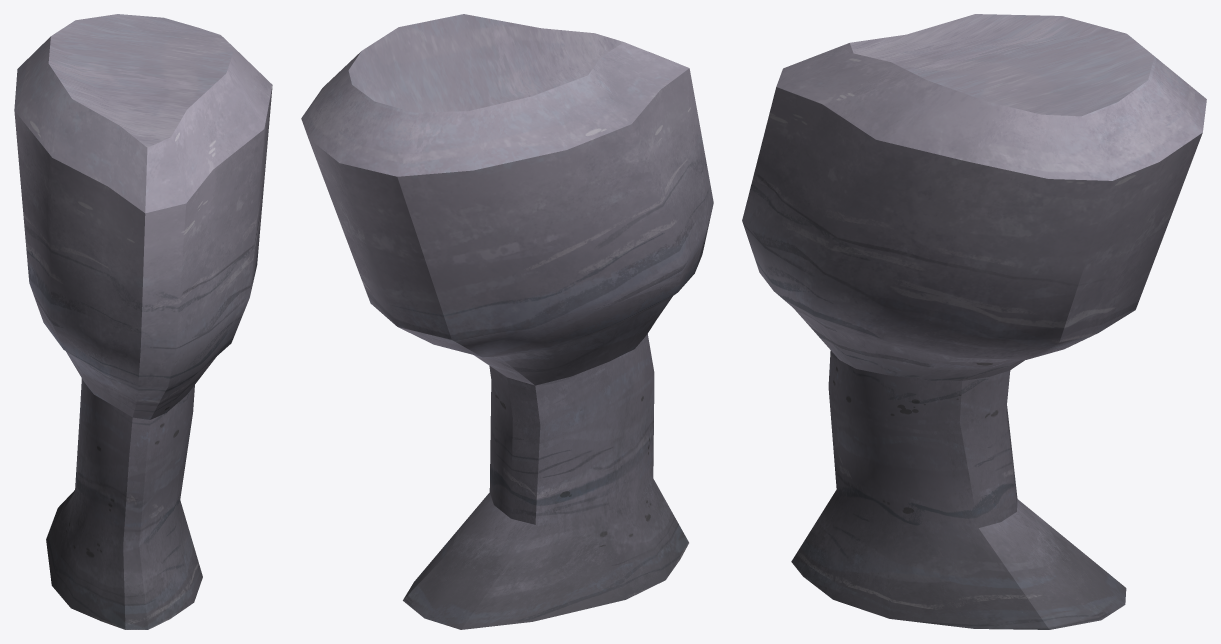
The model's file is tower_1.fbx.
The picture shows the model from 3 angles, left to right: view 1: azimuth 30°, elevation 25°; view 2: azimuth 150°, elevation 25°; view 3: azimuth 270°, elevation 25°; orthographic projection. The views are drawn at different scales.
Visible parts, largest first — view 1: tower 1; view 2: tower 1; view 3: tower 1.
Part boxes in pixels (<box>): tower 1: <box>14,14,272,629</box>; tower 1: <box>301,14,713,629</box>; tower 1: <box>742,14,1206,629</box>.
Size of the model in its own units: 1598 by 2793 by 2092.
